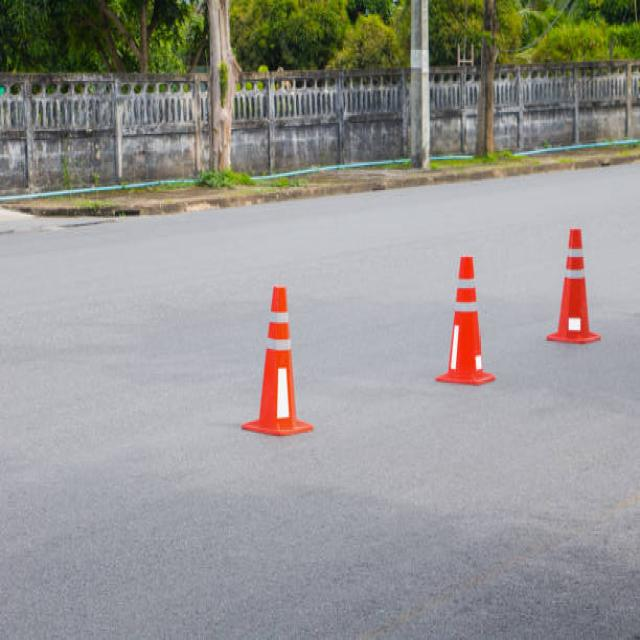Traffic Cone: (234, 273, 324, 445), (429, 237, 502, 410), (542, 218, 604, 360)
